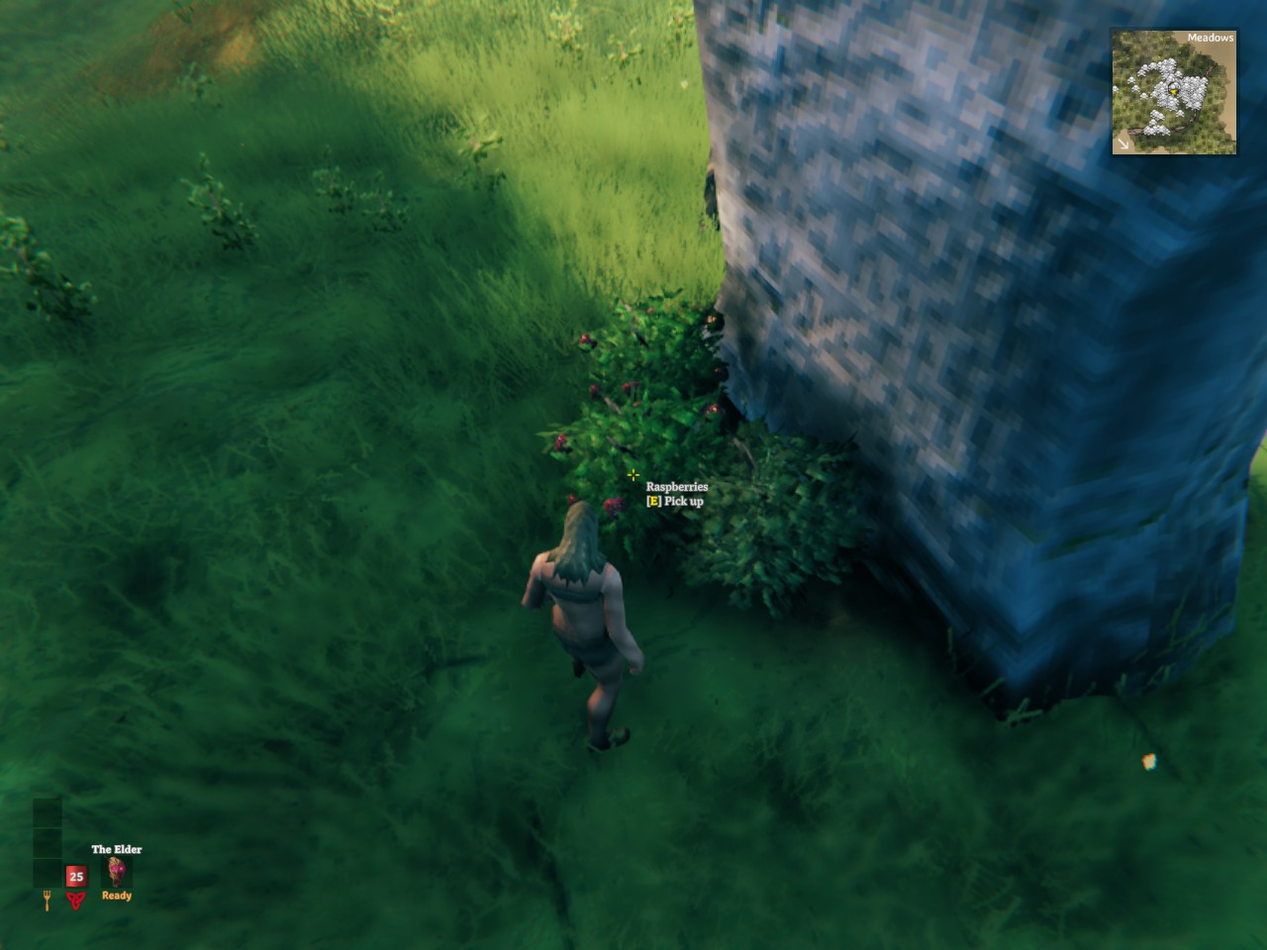Raspberries: (603, 498, 628, 519), (578, 332, 596, 349), (553, 433, 565, 449), (622, 383, 634, 394), (590, 384, 599, 397), (569, 493, 578, 506)
